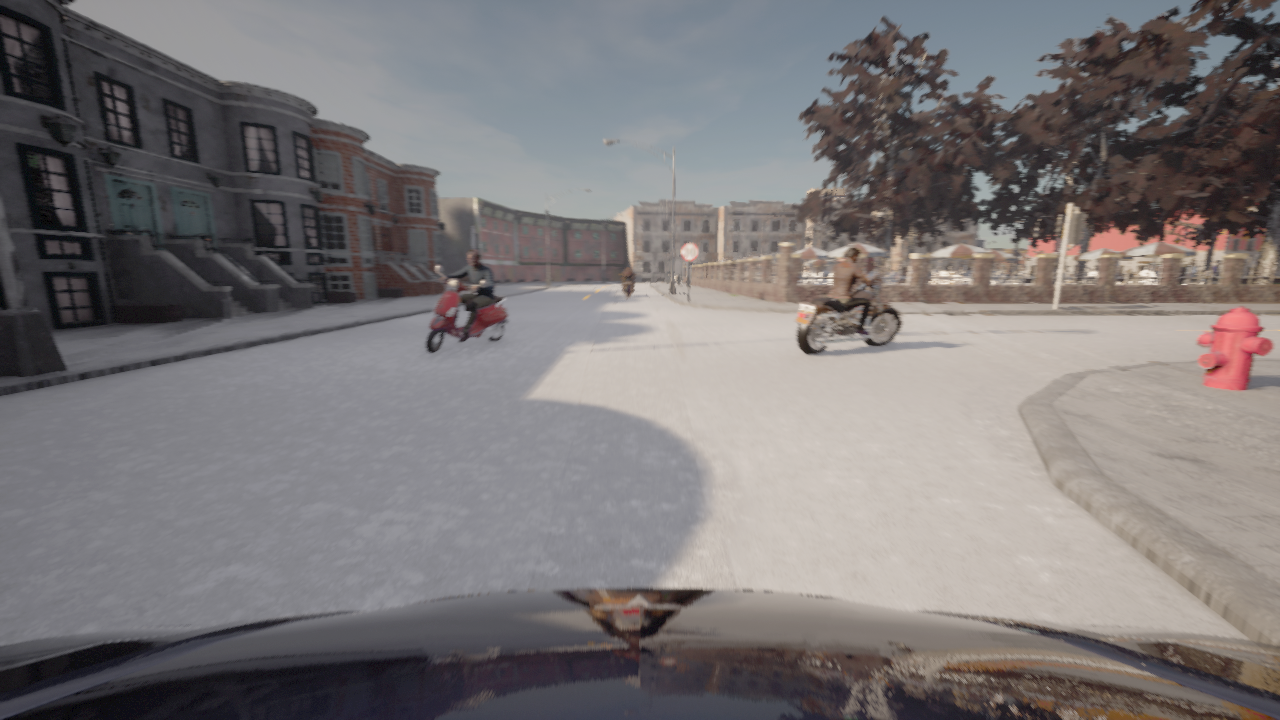cyclist: (0, 588, 1279, 719), (795, 275, 901, 354), (425, 265, 509, 353), (620, 273, 635, 296)
